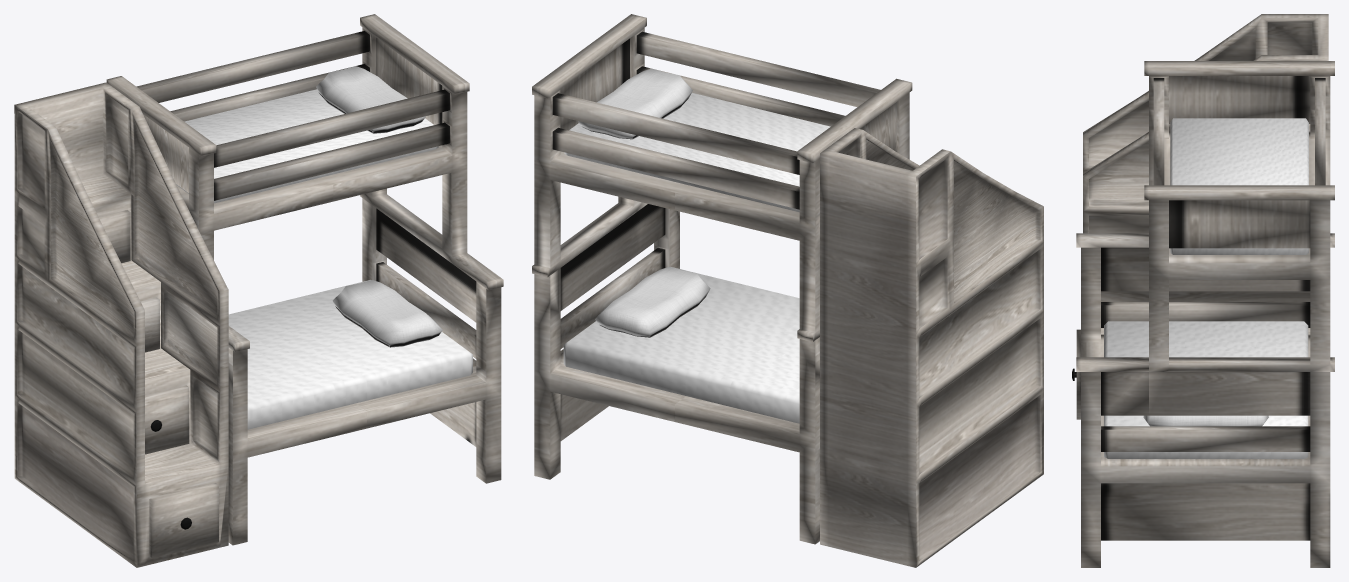
The model's file is obj_twin_over_full_bunk_bed_a16da8.glb.
3 views of the same model, side by side, from view 1: azimuth 30°, elevation 25°; view 2: azimuth 150°, elevation 25°; view 3: azimuth 270°, elevation 25° (orthographic). The views are drawn at different scales.
Visible parts, largest first — view 1: obj_twin_over_full_bunk_bed_a16da8; view 2: obj_twin_over_full_bunk_bed_a16da8; view 3: obj_twin_over_full_bunk_bed_a16da8.
Boxes of the visible parts, <box> form: obj_twin_over_full_bunk_bed_a16da8: <box>14,14,503,567</box>; obj_twin_over_full_bunk_bed_a16da8: <box>532,14,1043,567</box>; obj_twin_over_full_bunk_bed_a16da8: <box>1072,14,1334,567</box>.
Bounding box in the file's own units: 1.63 × 1.6 × 1.01.
Materials: 1 (1 with a texture image).
